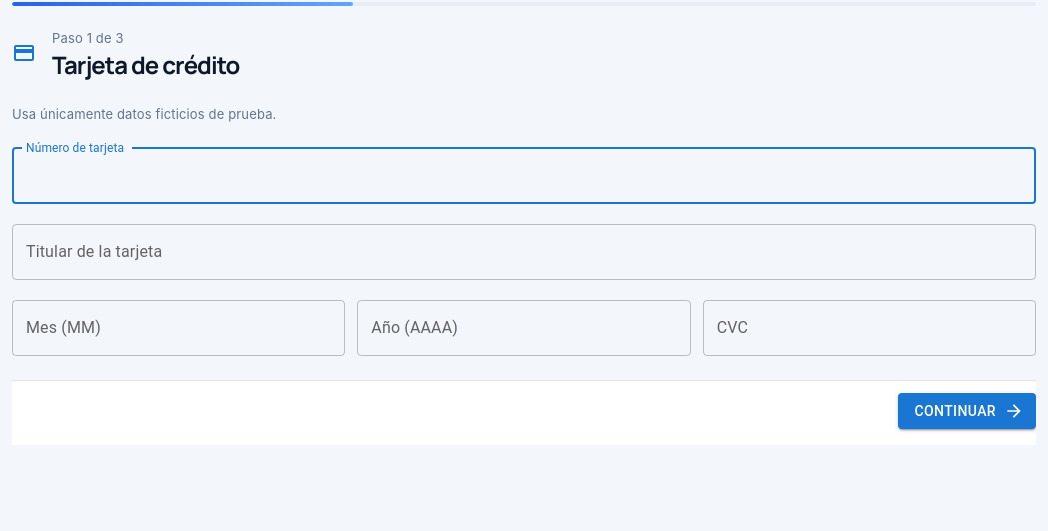
it: no muestra error de tarjeta mientras se empieza a escribir y valida al salir
The width and height of the screenshot is (1048, 531).
In the field labelled "Número de tarjeta": (524, 176) [12, 148, 1036, 204], type "4"
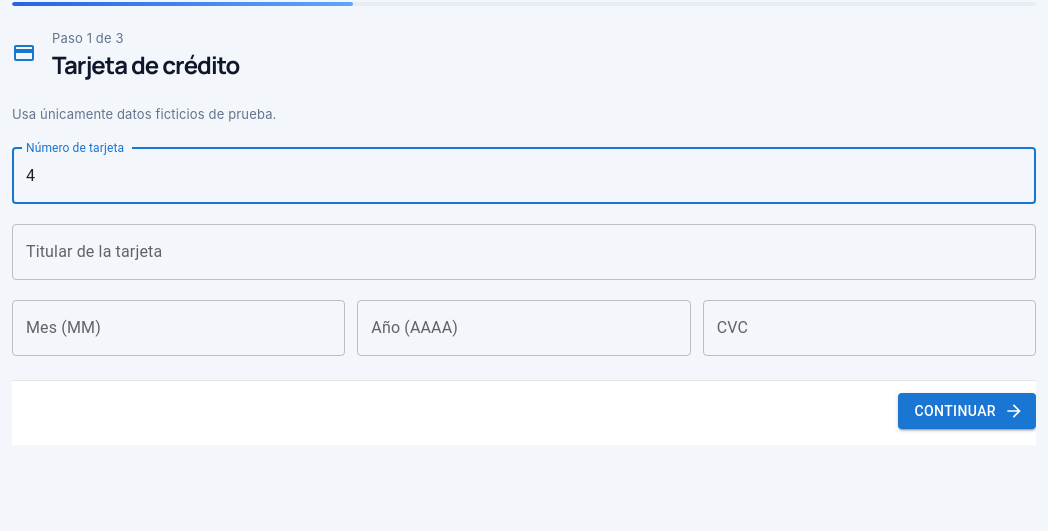
Leave the field labelled "Número de tarjeta", box [12, 148, 1036, 204]
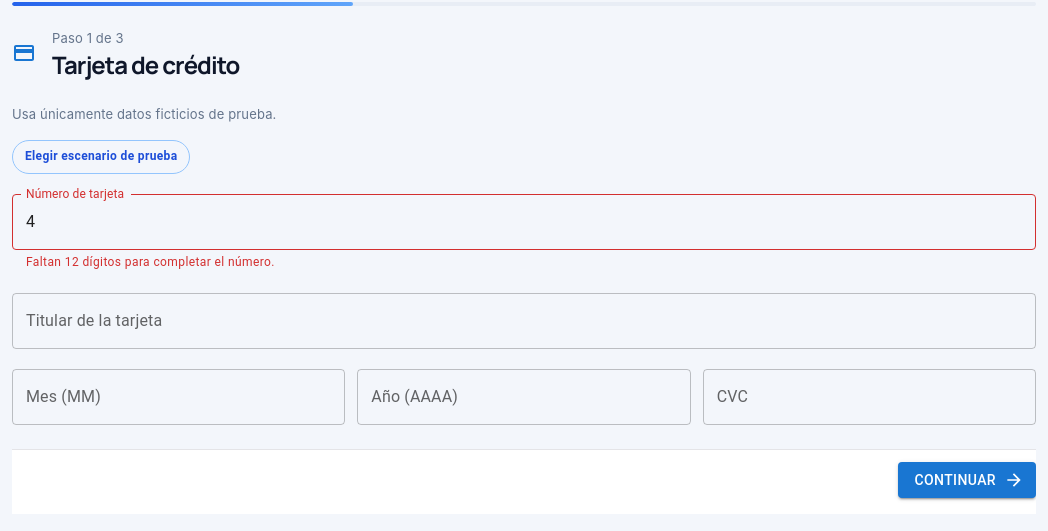
Expected: the text "Faltan 12 dígitos para completar el número." is shown, [26, 255, 275, 269]
